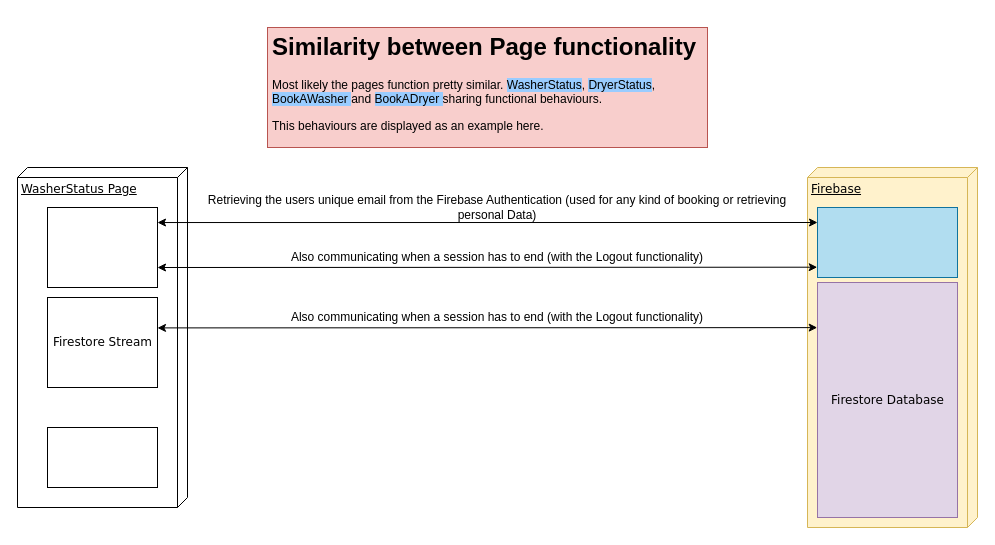
Some shapes in this 995 by 545 pixel diagram are drawn without their labels. Here are the shapes that lost their labels. From the top down, the centre of each, then its label:
[102,247]: FirebaseAuth
[887,242]: Authentication
[102,457]: Firestore CRUD
